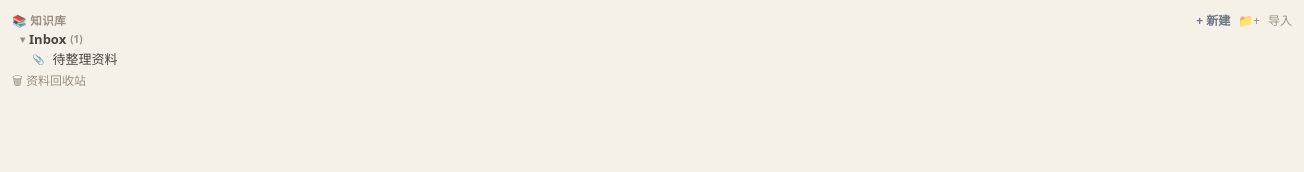
KbTree › 资料右键菜单：打开/重命名/移动/升格为文稿/移入回收站
Right-click the text "待整理资料" at (85, 58), box [52, 50, 118, 68]
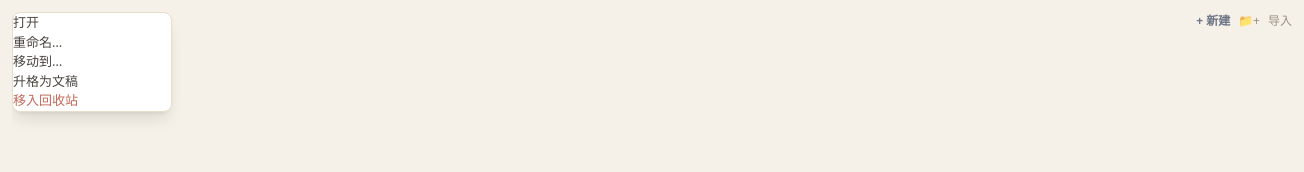
Result: the element with test id "kb-context-menu" is shown at [12, 12, 172, 112]
Result: the button with test id "kb-menu-open" is shown at [13, 13, 171, 32]
Result: the button with test id "kb-menu-rename" is shown at [13, 32, 171, 52]
